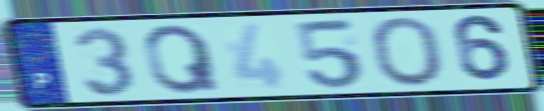3: (71, 23, 137, 99)
4: (229, 20, 289, 93)
5: (291, 16, 368, 91)
6: (450, 12, 513, 86)
O: (367, 14, 448, 89)
Q: (140, 22, 224, 96)
